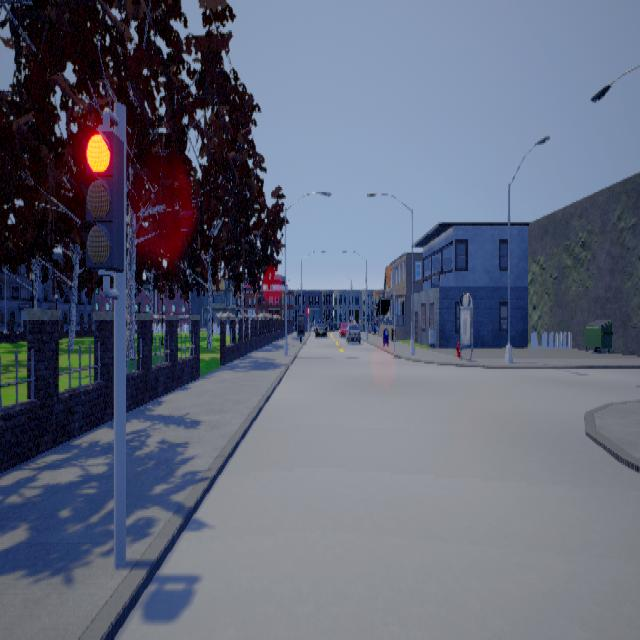red_light: (82, 106, 125, 298)
vehicle: (340, 322, 361, 342), (315, 320, 329, 339)
